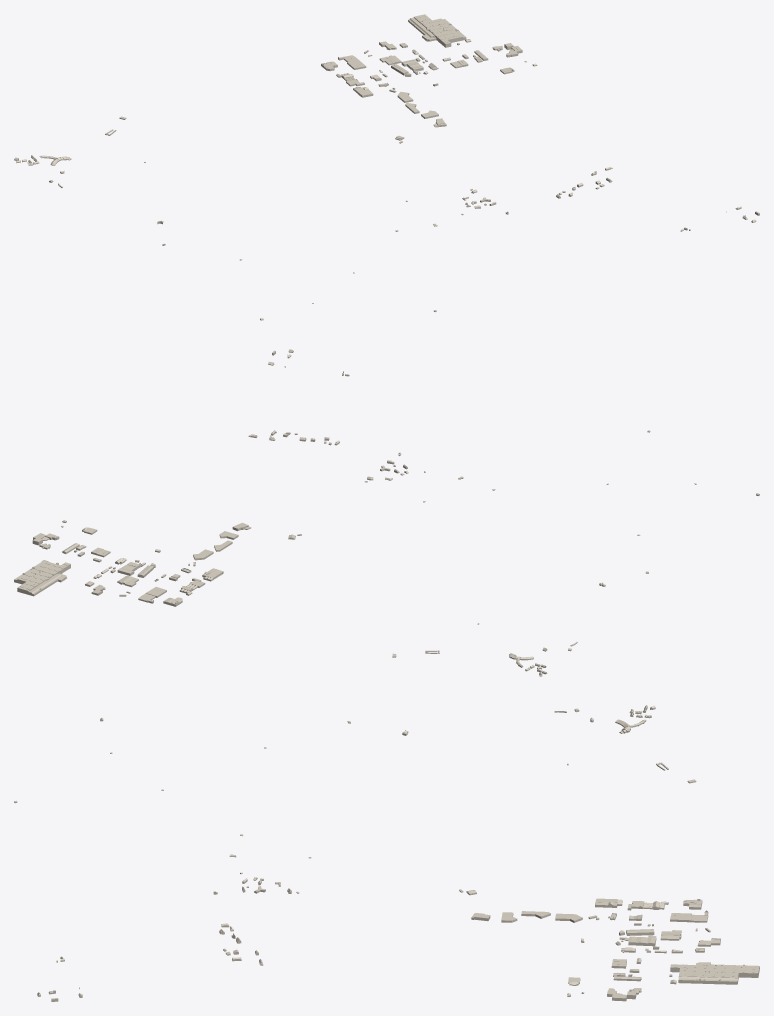
The picture shows the model from 3 angles, top to bottom: view 1: azimuth 30°, elevation 25°; view 2: azimuth 150°, elevation 25°; view 3: azimuth 270°, elevation 25°; orthographic projection. The views are drawn at different scales.
Size of the model in its own units: 1798 by 21.18 by 1896.
